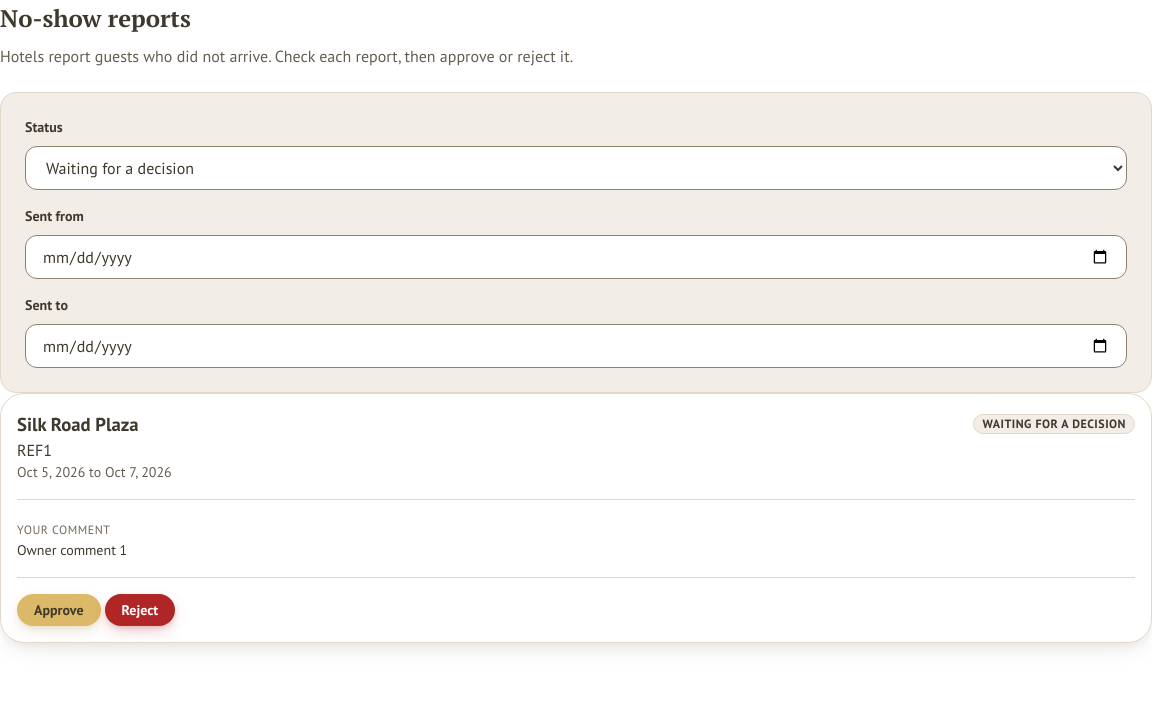
AdminNoShowReports › decisions › does not send twice while the request runs
The width and height of the screenshot is (1152, 720).
Click the button "Approve". click: (59, 610)
box: 17,594 -> 100,626
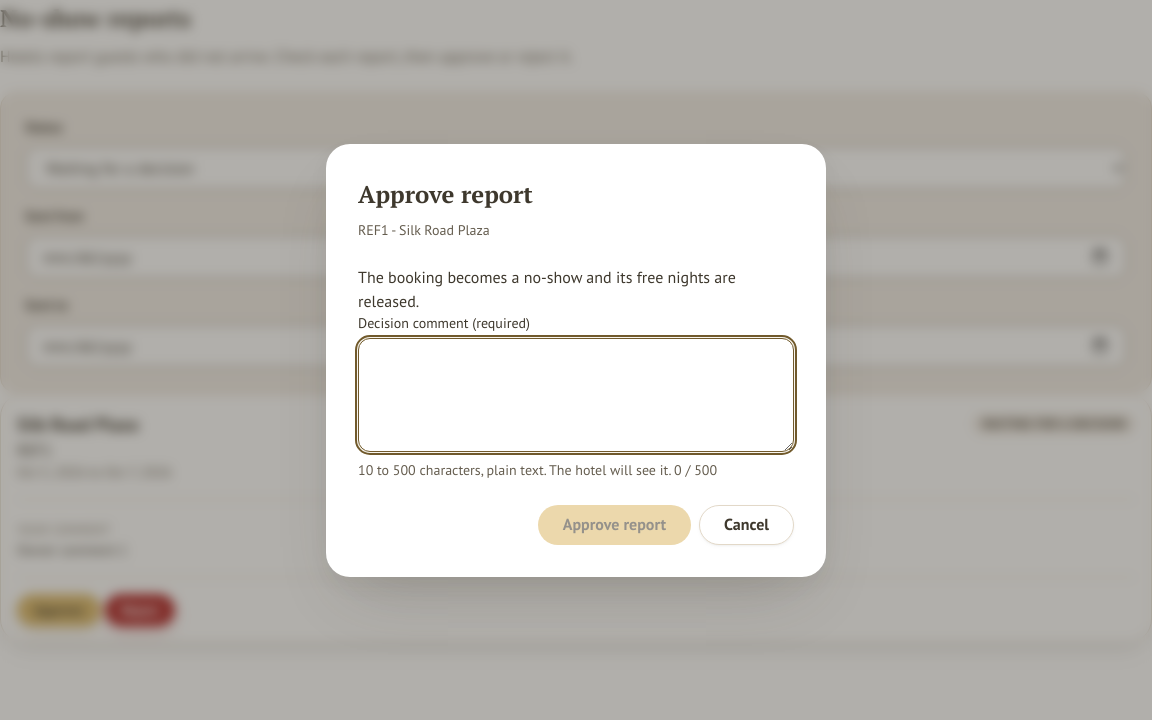
Type "Checked with the hotel and the guest." into the text box labelled "Decision comment (required)". click: (576, 394)
box: 358,338 -> 794,452
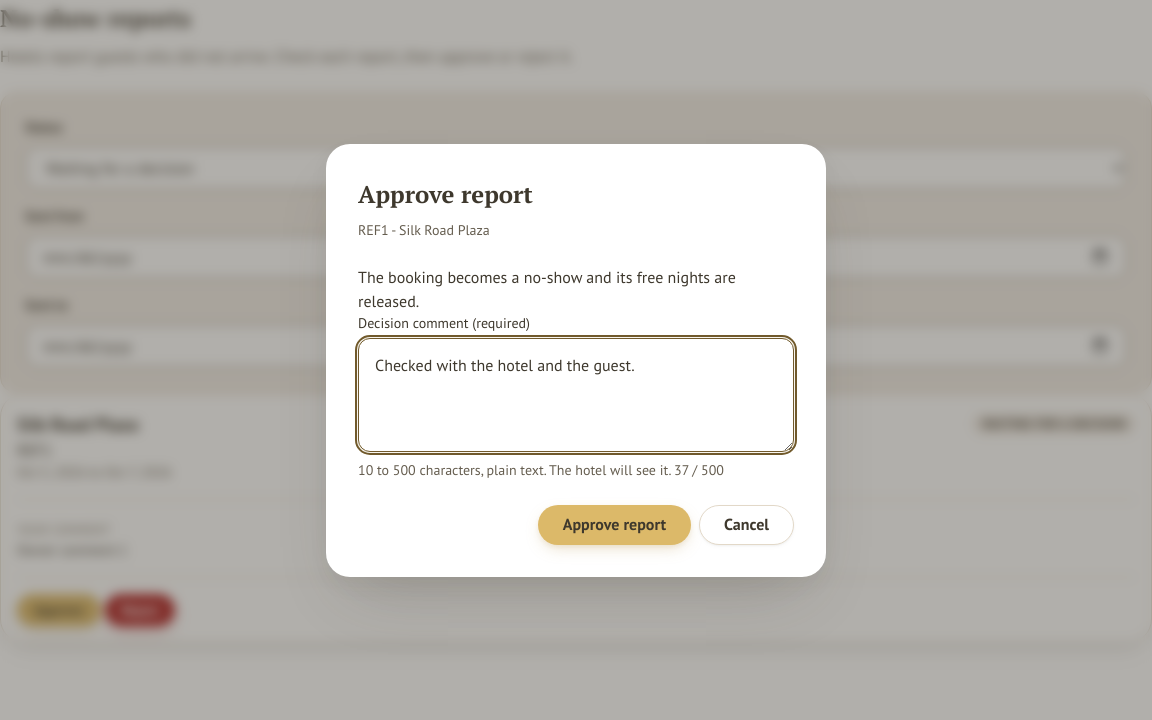
Click the button "Approve report". click: (614, 524)
box: 538,504 -> 691,544
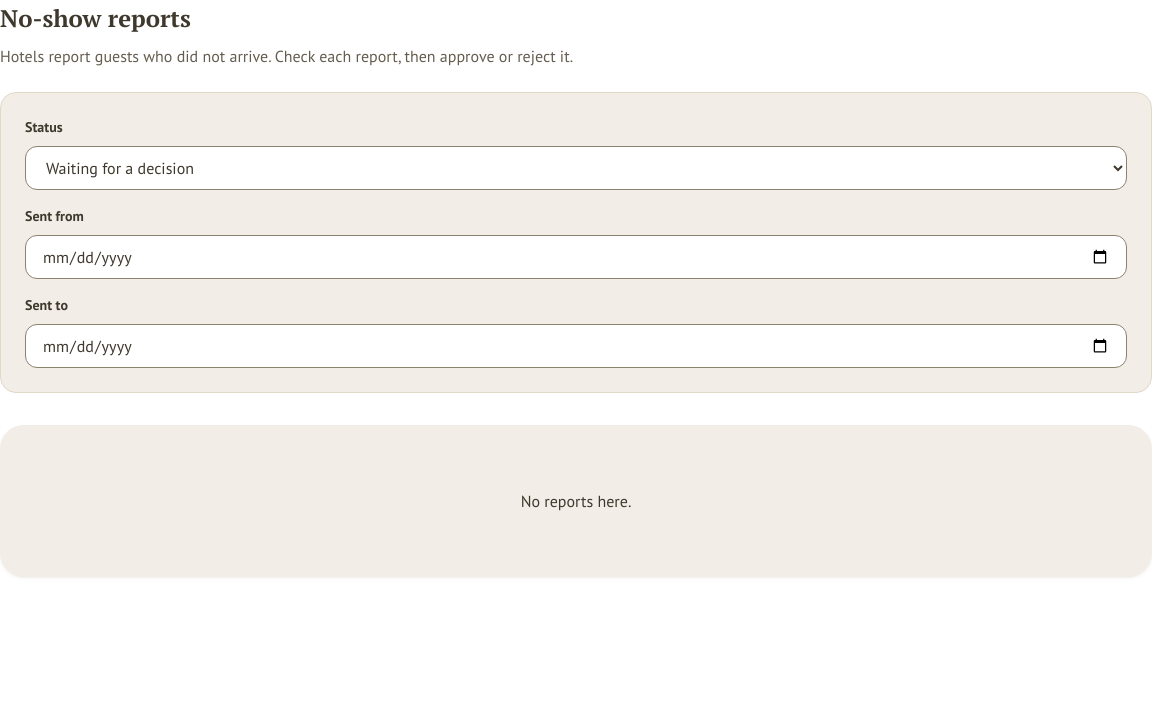
Now the dialog is gone
